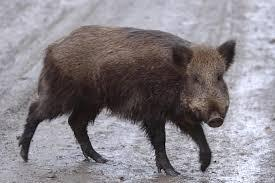wildboar: (13, 21, 242, 178)
